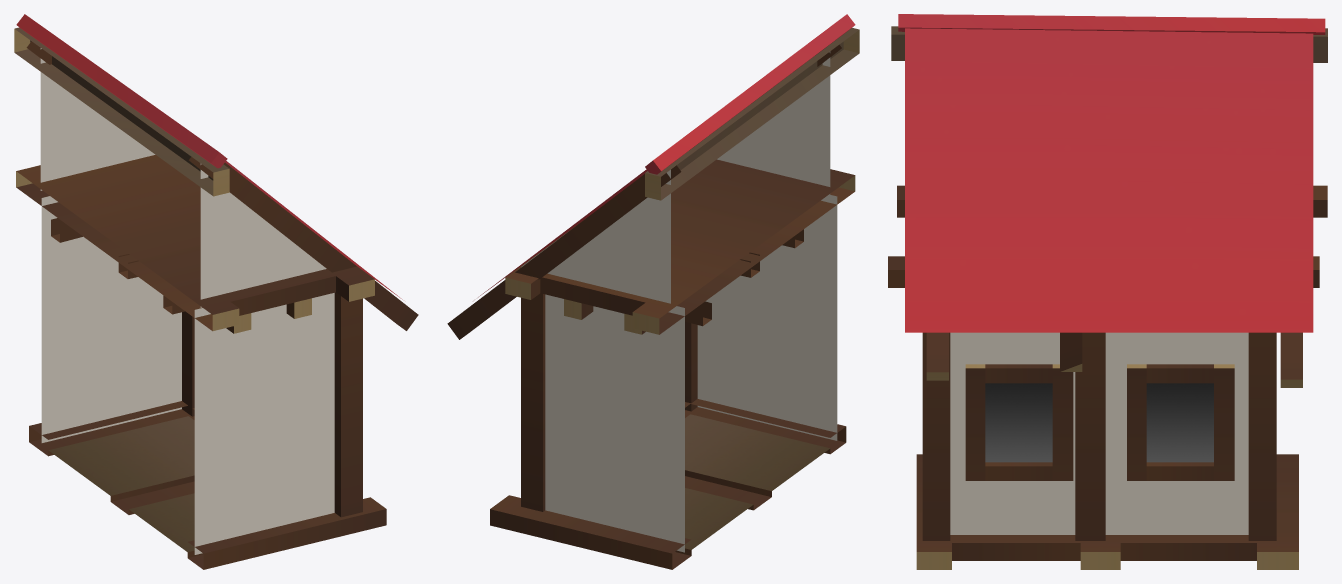
File: House_Piece_2A_LOD1.fbx
The picture shows the model from 3 angles, left to right: view 1: azimuth 30°, elevation 25°; view 2: azimuth 150°, elevation 25°; view 3: azimuth 270°, elevation 25°; orthographic projection. The views are drawn at different scales.
Parts seen in each view (by area): view 1: polySurface9630; view 2: polySurface9630; view 3: polySurface9630.
Part boxes in pixels (bbox=[...]): polySurface9630: bbox=[14, 14, 418, 569]; polySurface9630: bbox=[447, 14, 859, 569]; polySurface9630: bbox=[888, 14, 1327, 569].
Bounding box in the file's own units: 219 × 387 × 334.
